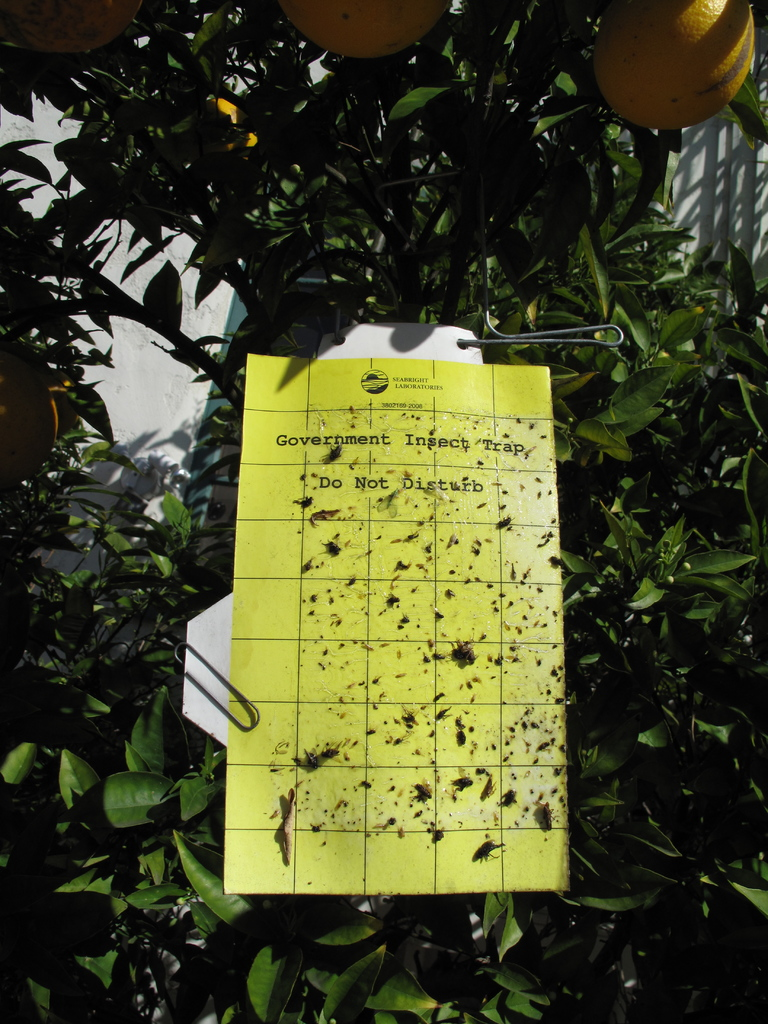Ripe: (595, 0, 762, 134), (278, 0, 443, 63)
